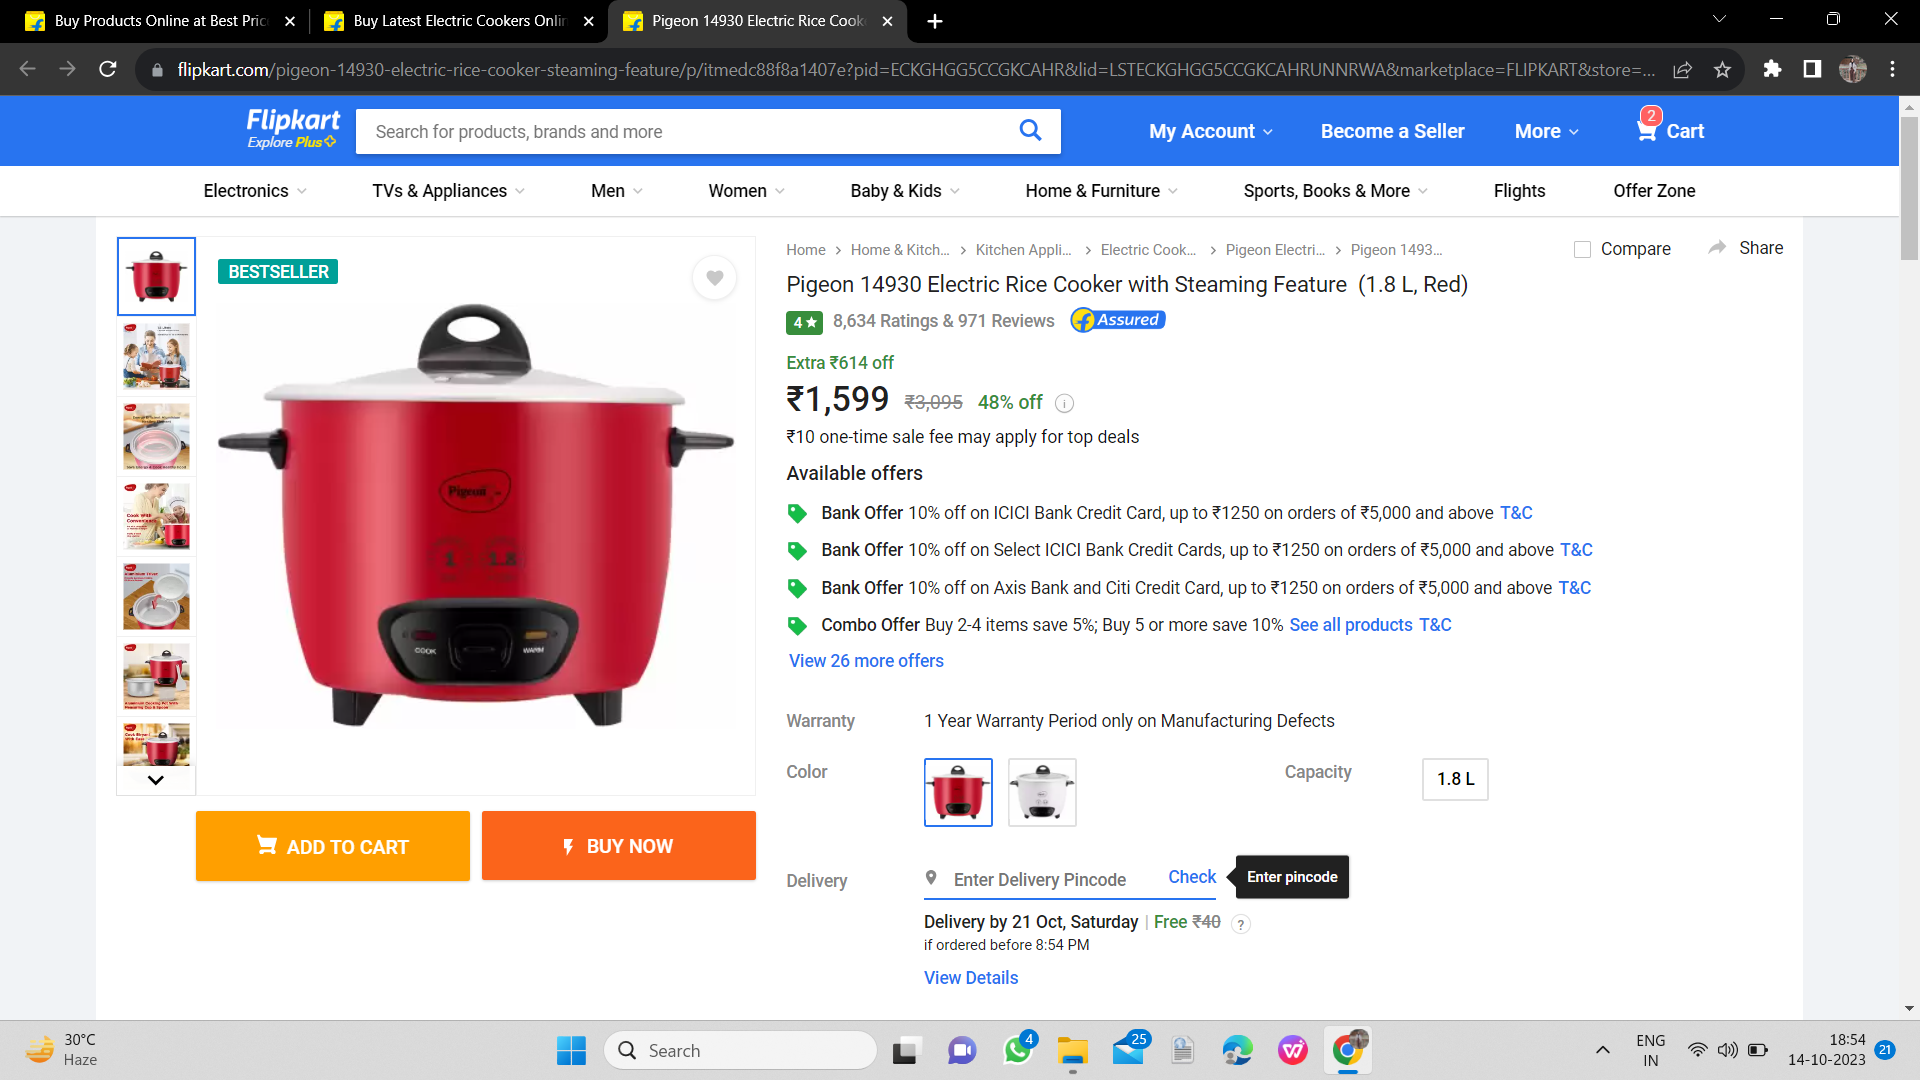Image: (200, 245, 757, 756)
Paragraph: (781, 495, 1598, 678), (781, 858, 1360, 993), (190, 796, 761, 885), (777, 349, 1143, 451), (1129, 99, 1717, 157), (783, 753, 1088, 837), (773, 264, 1489, 298), (779, 703, 1344, 737), (781, 299, 1167, 340), (1288, 750, 1499, 804), (781, 462, 930, 488)
